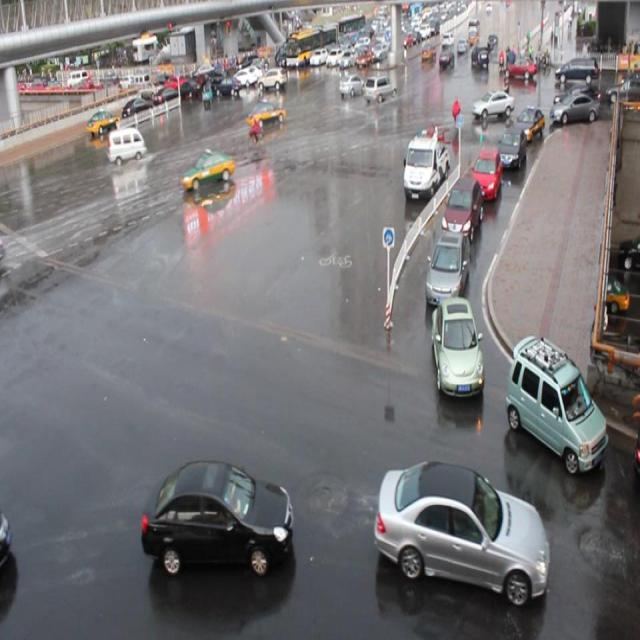bus: (402, 127, 450, 201)
car: (375, 458, 550, 604), (140, 458, 294, 574), (503, 327, 609, 472), (431, 294, 484, 398), (424, 228, 468, 304), (440, 173, 480, 242), (181, 152, 233, 188), (469, 148, 501, 200), (495, 125, 526, 169), (472, 90, 512, 122), (512, 106, 544, 142), (244, 100, 284, 126), (337, 73, 366, 96)
truck: (106, 128, 149, 160), (363, 74, 396, 100)
